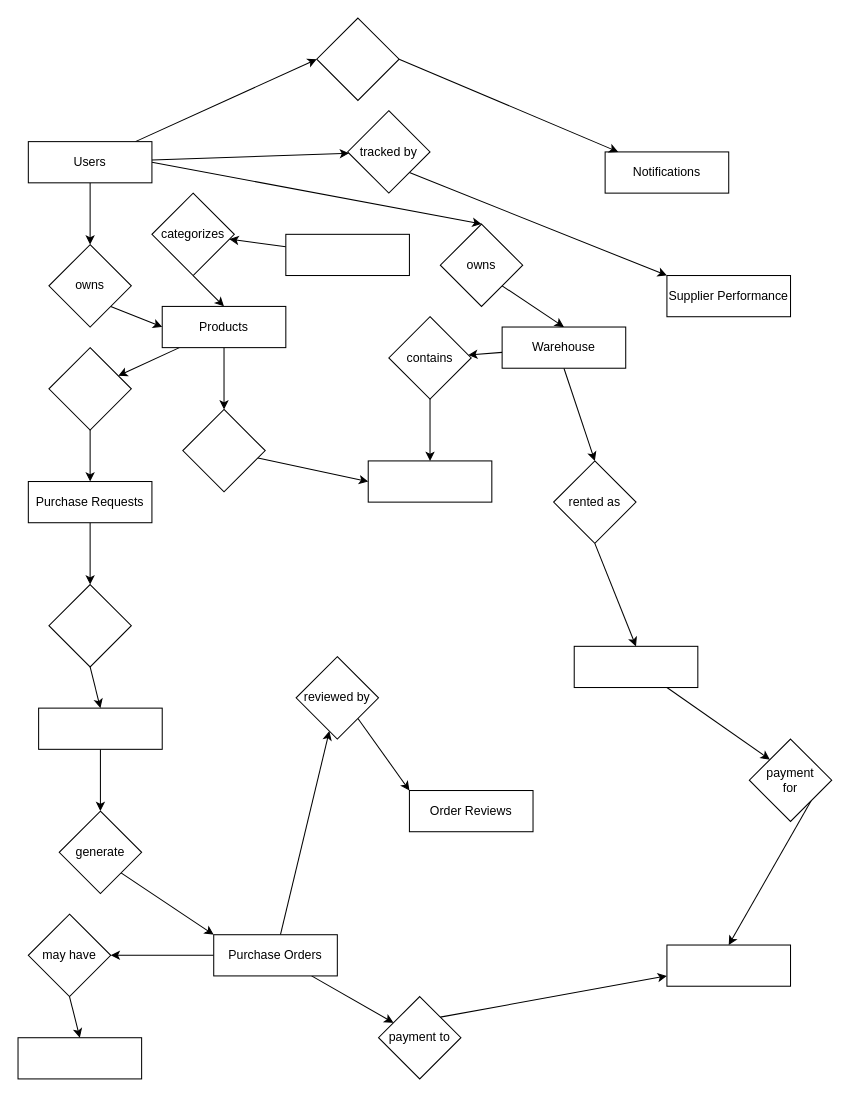
The diagram is 850 pixels wide and 1097 high, and some of its shapes have lost their labels. The centre of each missing label's shape, as x and y in pixels:
"Bids" goes at point 100,728.
"Categories" goes at point 347,254.
"Disputes" goes at point 79,1058.
"Inventory" goes at point 429,481.
"receives" goes at point 89,625.
"recives" goes at point 357,58.
"requests" goes at point 89,388.
"stored in" goes at point 223,450.
"Transactions" goes at point 728,965.
"Warehouse Rentals" goes at point 635,666.
